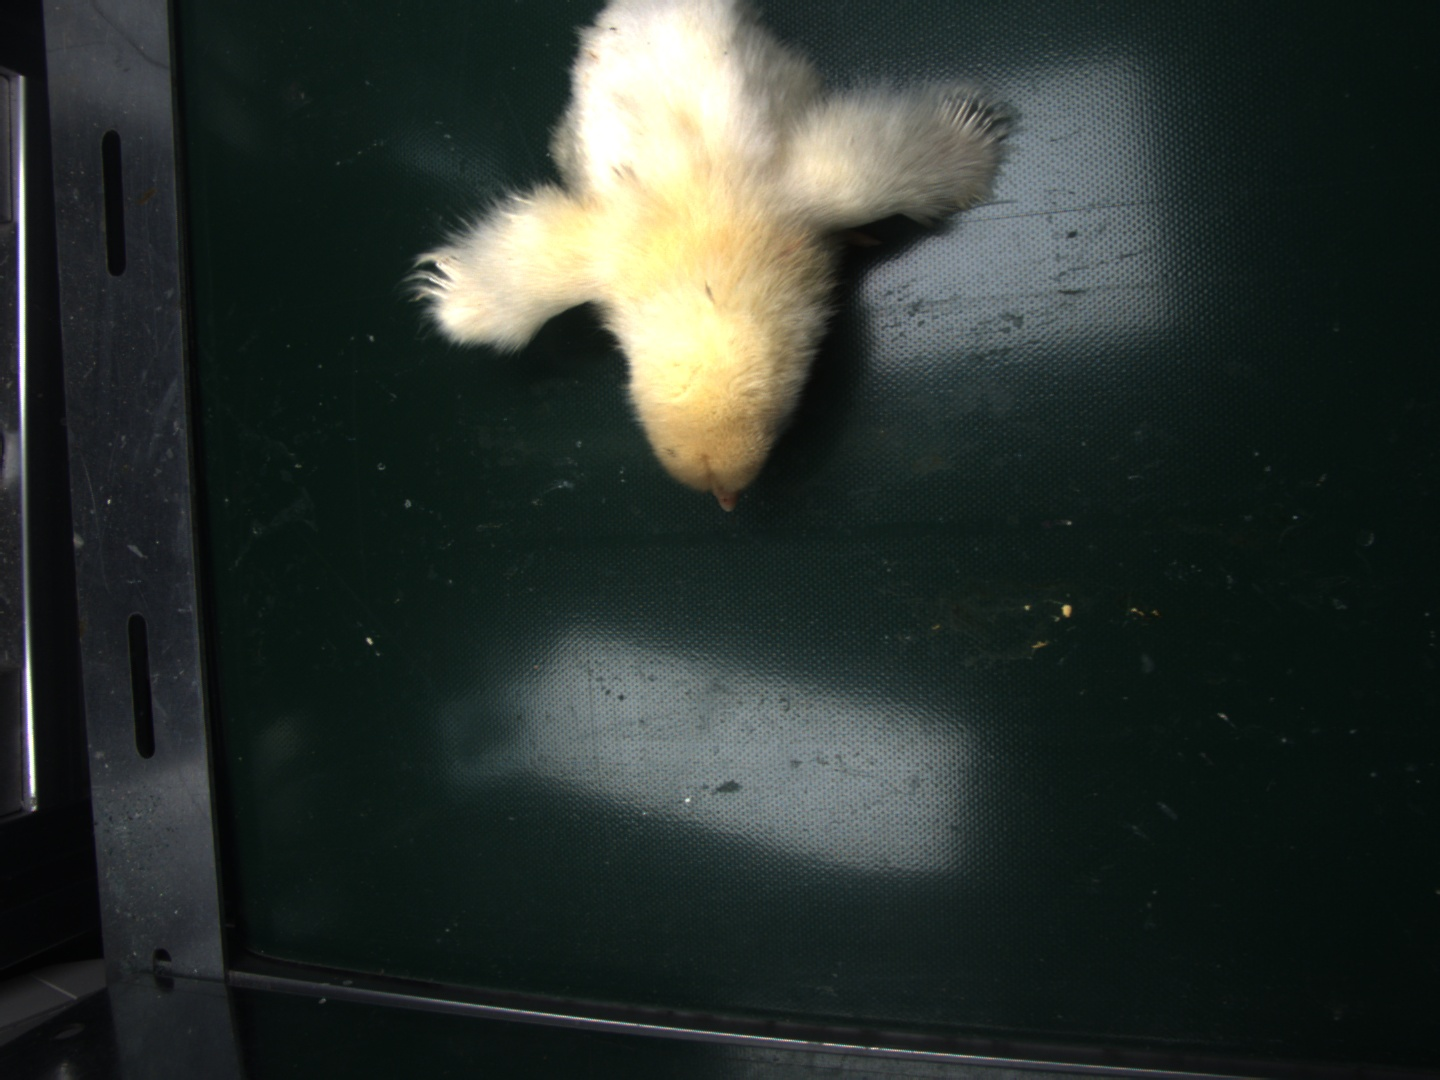male: (939, 98, 997, 146)
